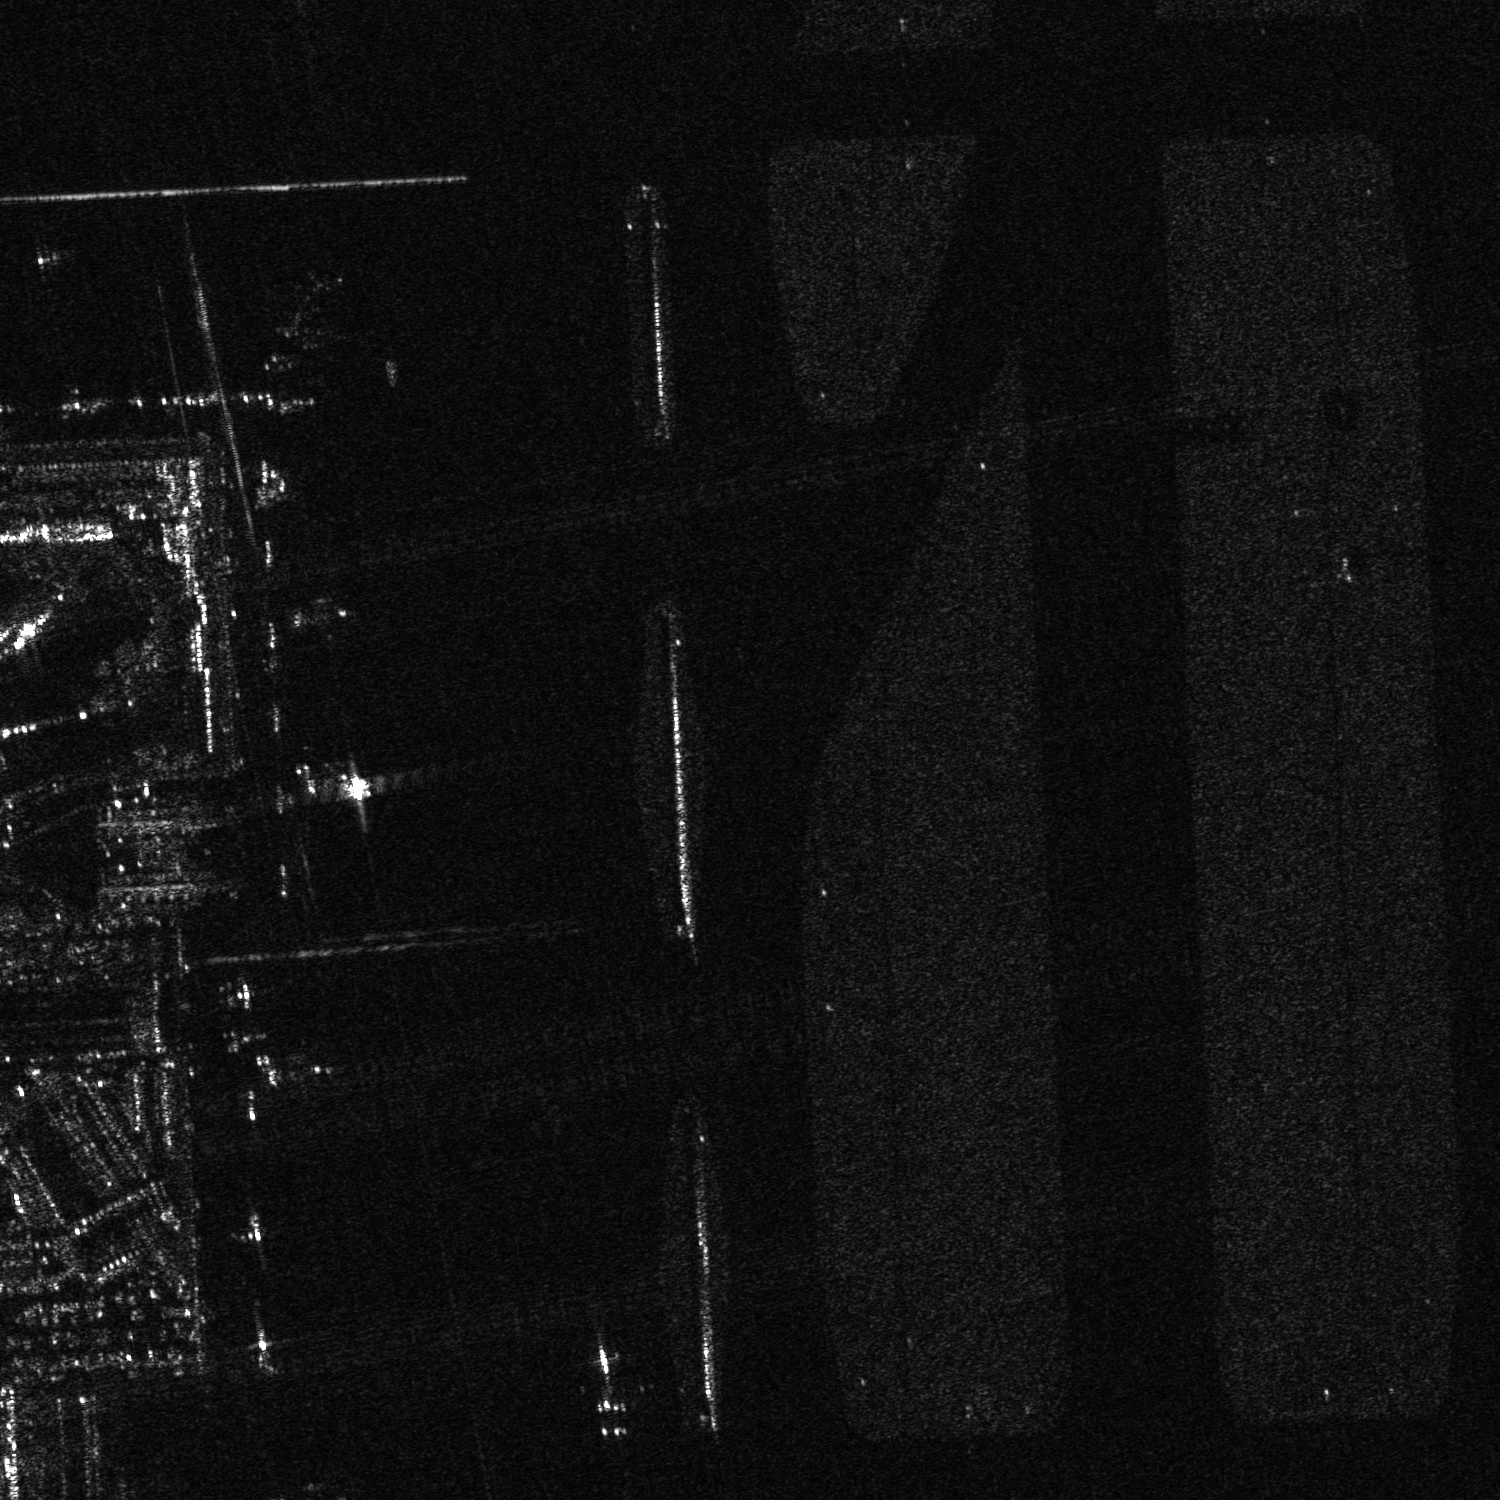A220: (279, 578, 357, 641), (236, 1319, 291, 1374), (235, 1213, 280, 1268), (212, 979, 271, 1014), (245, 1049, 282, 1091)
other: (565, 1341, 648, 1437), (218, 1027, 275, 1054)
